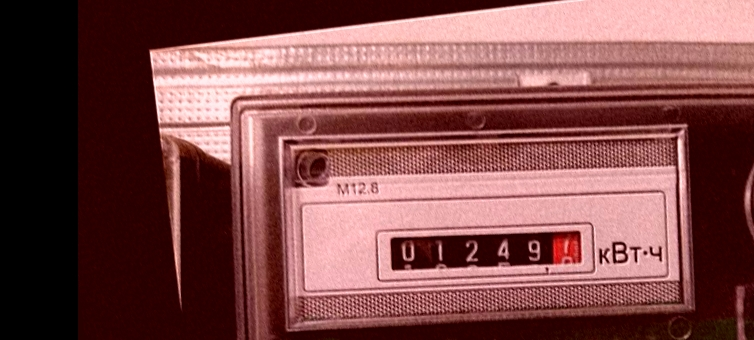0: (397, 237, 417, 265)
1: (430, 236, 447, 264)
2: (460, 238, 480, 266)
4: (493, 235, 512, 262)
7: (557, 229, 575, 256)
9: (522, 237, 542, 265)
screen: (369, 203, 600, 303)
